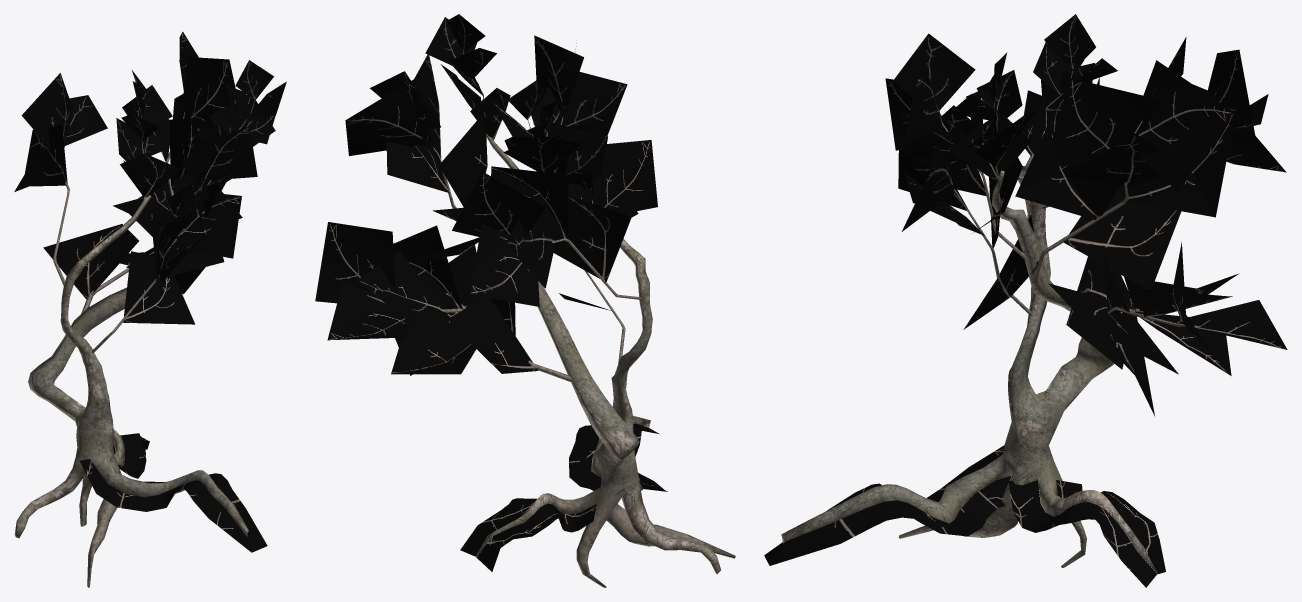
File: SM_Tree_bent_01.fbx
3 views of the same model, side by side, from view 1: azimuth 30°, elevation 25°; view 2: azimuth 150°, elevation 25°; view 3: azimuth 270°, elevation 25° (orthographic). The views are drawn at different scales.
Visible parts, largest first — view 1: SM_Tree_bent_01; view 2: SM_Tree_bent_01; view 3: SM_Tree_bent_01.
Boxes of the visible parts, bbox=[...] form: SM_Tree_bent_01: bbox=[14, 31, 286, 587]; SM_Tree_bent_01: bbox=[315, 14, 735, 587]; SM_Tree_bent_01: bbox=[764, 14, 1287, 587].
Bounding box in the file's own units: 408 × 475 × 624.
2 materials, 2 textured.
